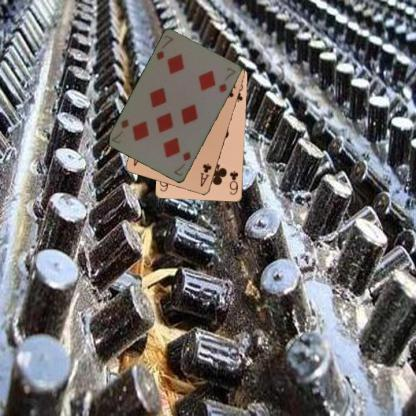6c: (227, 168, 240, 197)
7d: (171, 149, 192, 178), (154, 33, 175, 62)
Ac: (198, 161, 212, 188)
